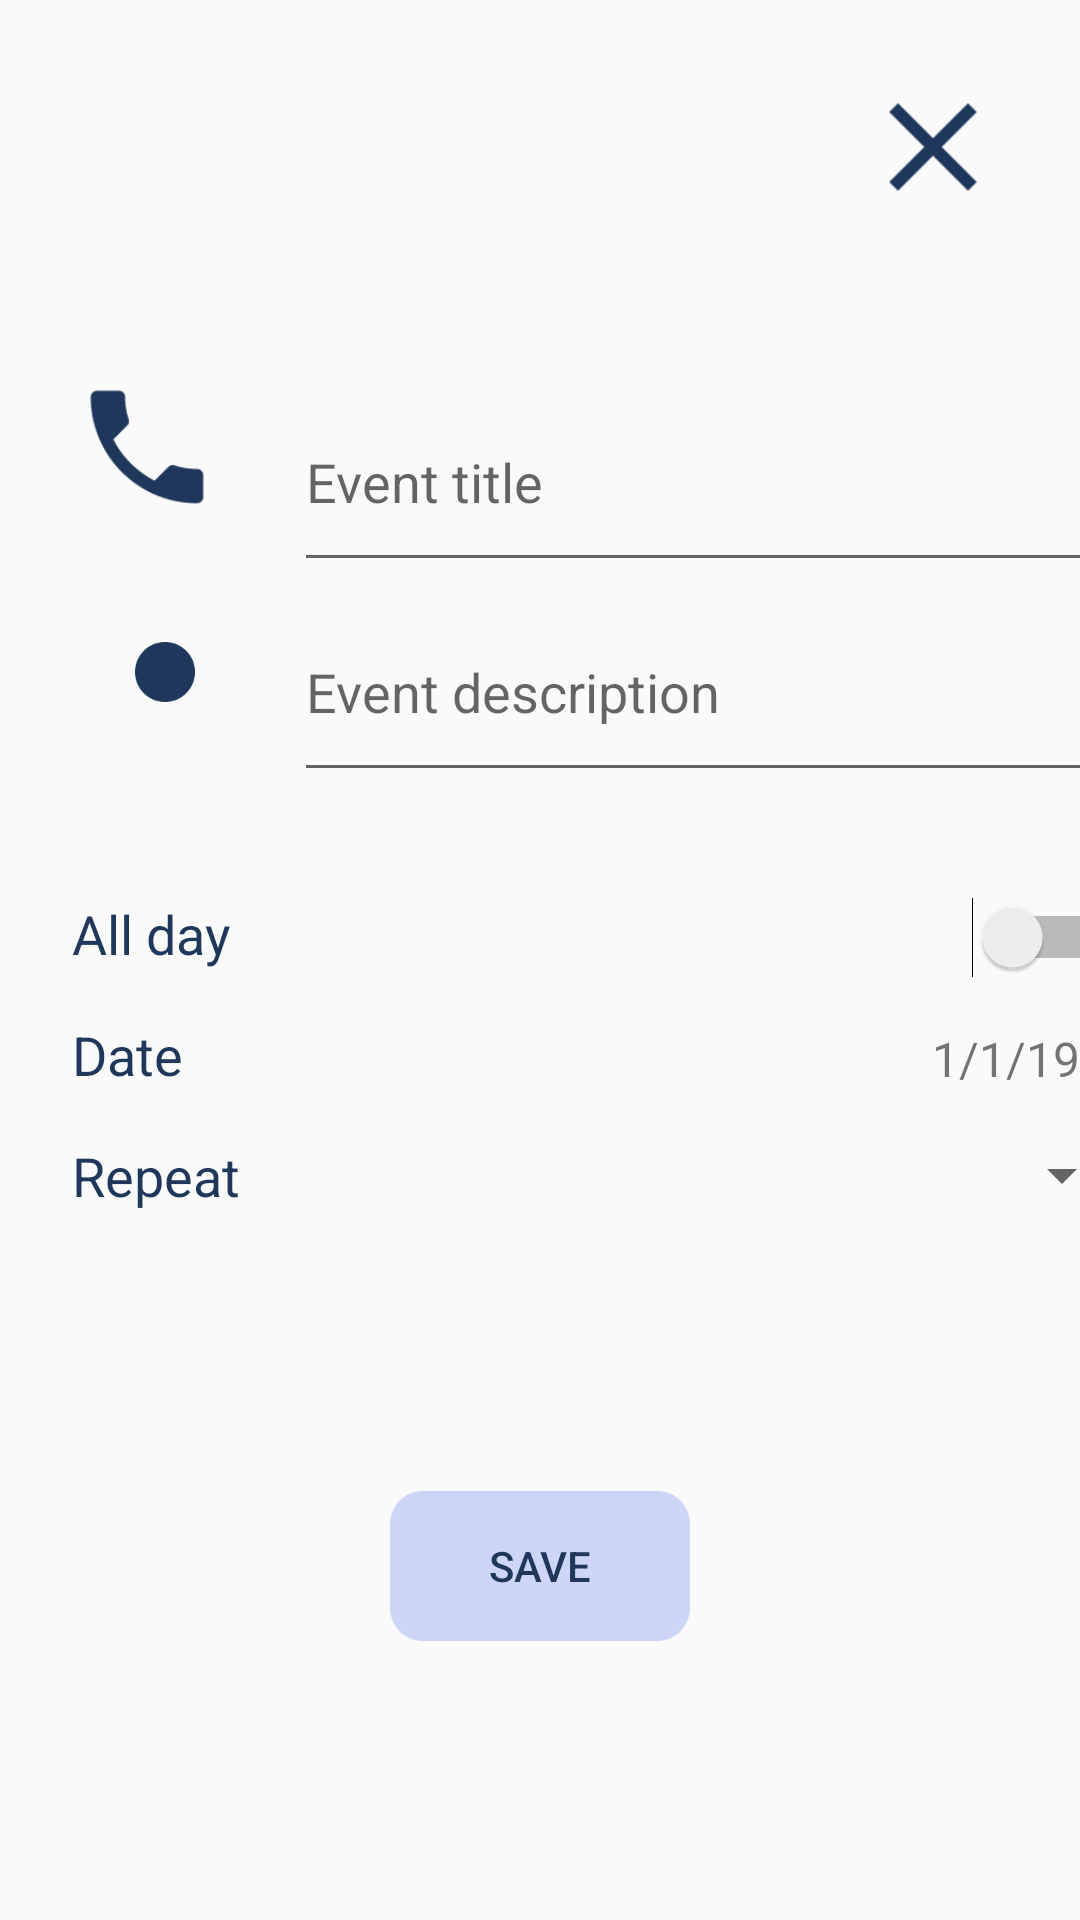

Point at icon controls on the screen. Image size 1080x1920, points as (x,y).
call: (147,447)
cancel: (933,147)
